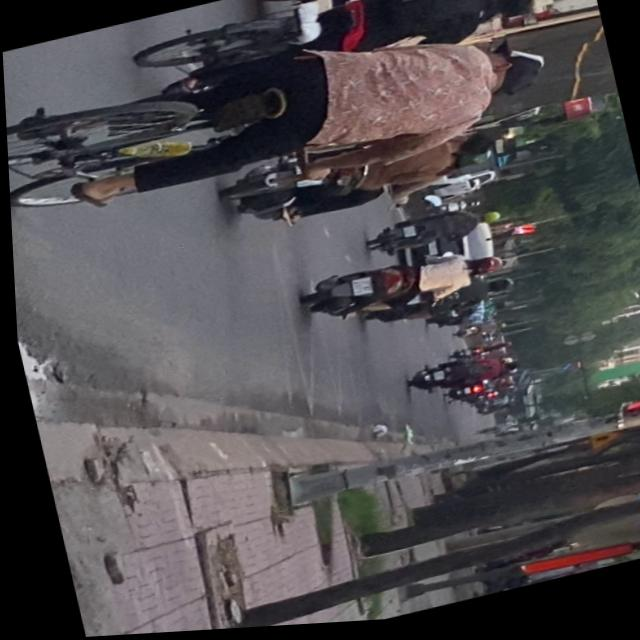helmet: (463, 256, 502, 283)
licenseplate: (210, 112, 513, 243), (293, 239, 509, 334)
motorcyclist: (443, 130, 497, 167)
nohelmet: (348, 279, 371, 299)
